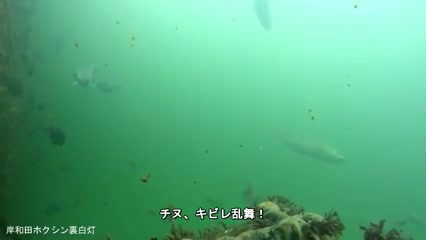smallfish: (267, 121, 351, 165)
